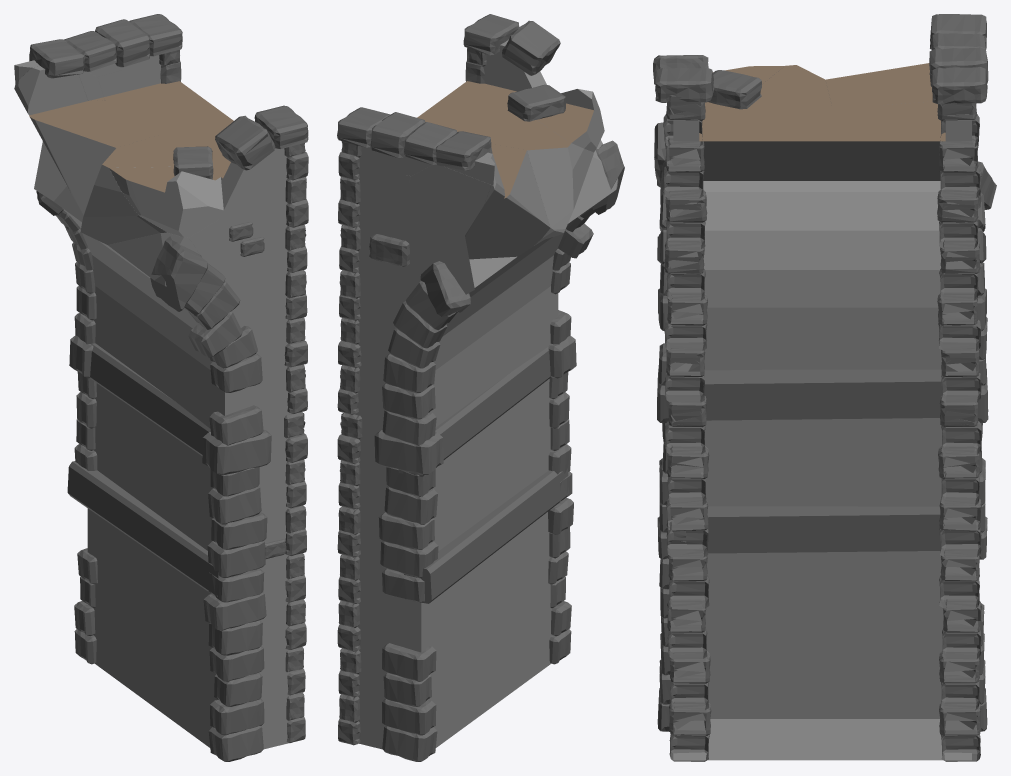
Rendered from Bridge section 2.fbx.
The picture shows the model from 3 angles, left to right: view 1: azimuth 30°, elevation 25°; view 2: azimuth 150°, elevation 25°; view 3: azimuth 270°, elevation 25°; orthographic projection. The views are drawn at different scales.
Visible parts, largest first — view 1: Bridge section 2; view 2: Bridge section 2; view 3: Bridge section 2.
Boxes of the visible parts, x1,y1,x2,y2 form: Bridge section 2: (14, 14, 308, 761); Bridge section 2: (337, 14, 624, 761); Bridge section 2: (653, 14, 996, 761).
Size of the model in its own units: 4.52 by 17.04 by 7.79.
